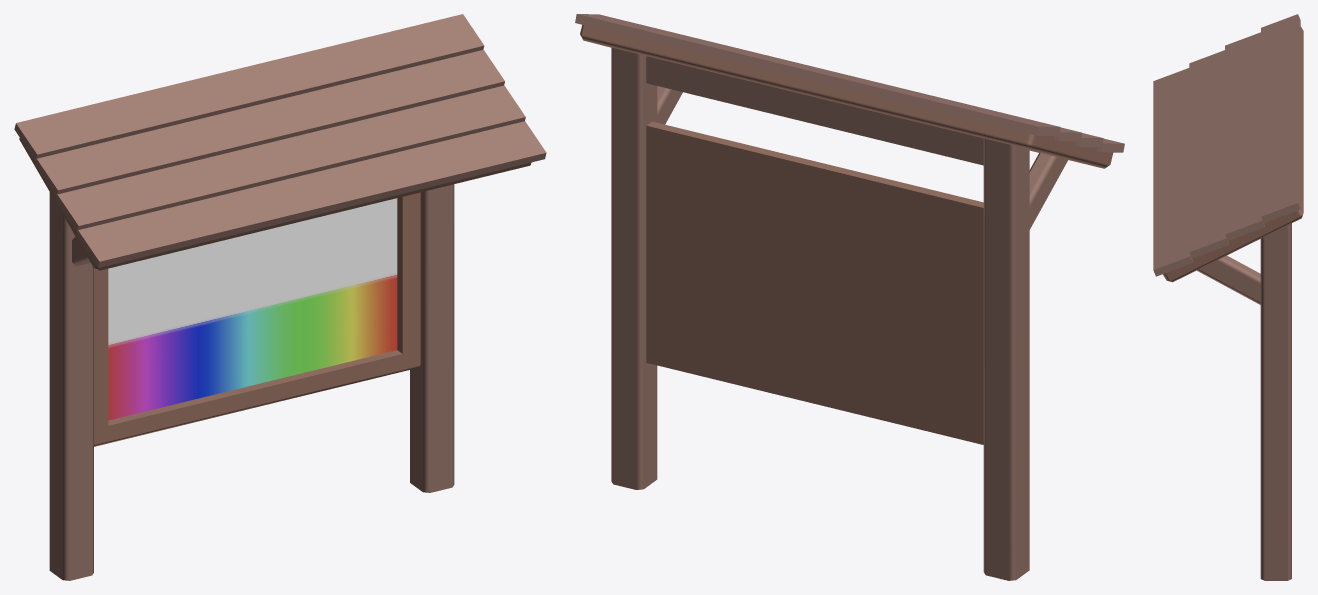
The model's file is TownSign.fbx.
The picture shows the model from 3 angles, left to right: view 1: azimuth 30°, elevation 25°; view 2: azimuth 150°, elevation 25°; view 3: azimuth 270°, elevation 25°; orthographic projection. The views are drawn at different scales.
Parts seen in each view (by area): view 1: TownSign, TownSign_Roof; view 2: TownSign, TownSign_Roof; view 3: TownSign_Roof, TownSign.
Boxes of the visible parts, left/top/right/bottom form: TownSign: left=19, top=138, right=531, bottom=580; TownSign_Roof: left=14, top=14, right=546, bottom=267; TownSign: left=580, top=25, right=1113, bottom=580; TownSign_Roof: left=575, top=14, right=1124, bottom=152; TownSign_Roof: left=1153, top=14, right=1300, bottom=276; TownSign: left=1163, top=26, right=1303, bottom=580.
Bounding box in the file's own units: 296 × 285 × 99.51.
